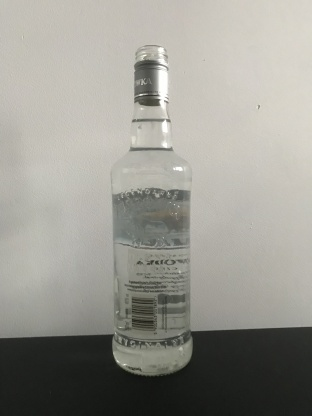nakretka: (131, 42, 171, 107)
